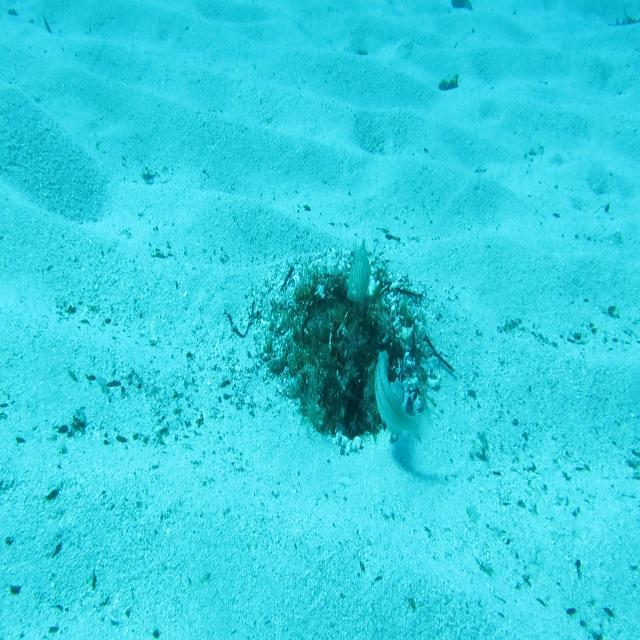NIP_CORE: (343, 236, 374, 307)
core_nest: (321, 286, 369, 342)
female: (372, 348, 436, 446)
nest: (244, 240, 448, 476)
vegetation: (436, 74, 461, 95)
